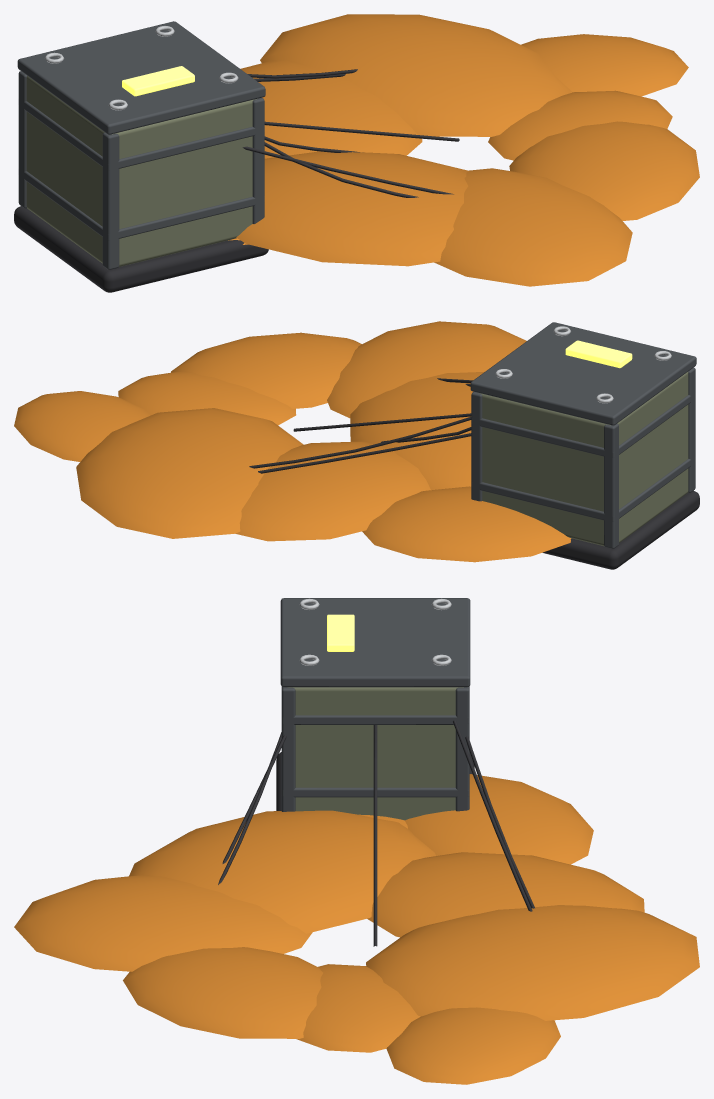
The model's file is battle-royale-town-and-airfield-supply-drop-landed-bcb52e9e__28233.glb.
3 views of the same model, one above another, from view 1: azimuth 30°, elevation 25°; view 2: azimuth 150°, elevation 25°; view 3: azimuth 270°, elevation 25° (orthographic). The views are drawn at different scales.
Visible parts, largest first — view 1: supply-drop-landed; view 2: supply-drop-landed; view 3: supply-drop-landed.
Boxes of the visible parts, bbox=[...] form: supply-drop-landed: bbox=[14, 14, 699, 292]; supply-drop-landed: bbox=[14, 321, 699, 569]; supply-drop-landed: bbox=[14, 598, 699, 1084].
Bounding box in the file's own units: 4.53 × 1.16 × 3.94.
